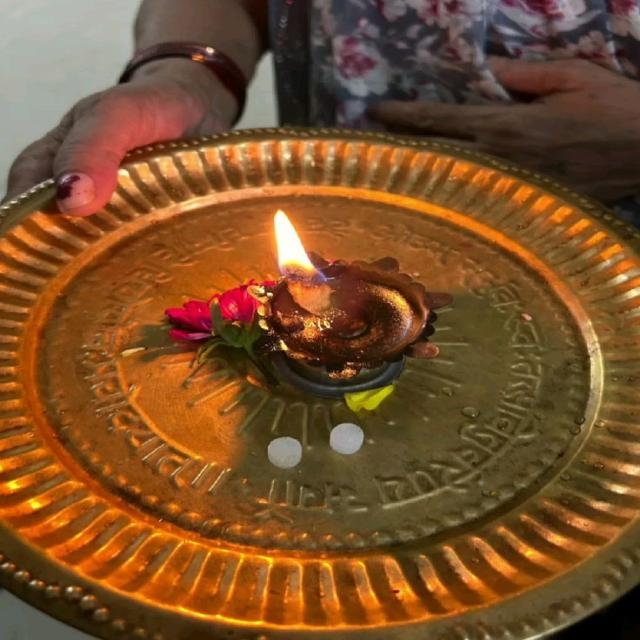fire: (272, 208, 328, 283)
